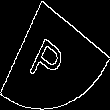P_NE: (34, 24, 76, 86)
